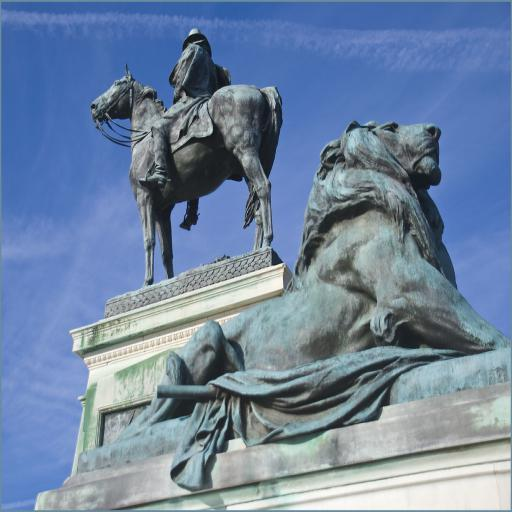horse: (88, 60, 284, 288)
